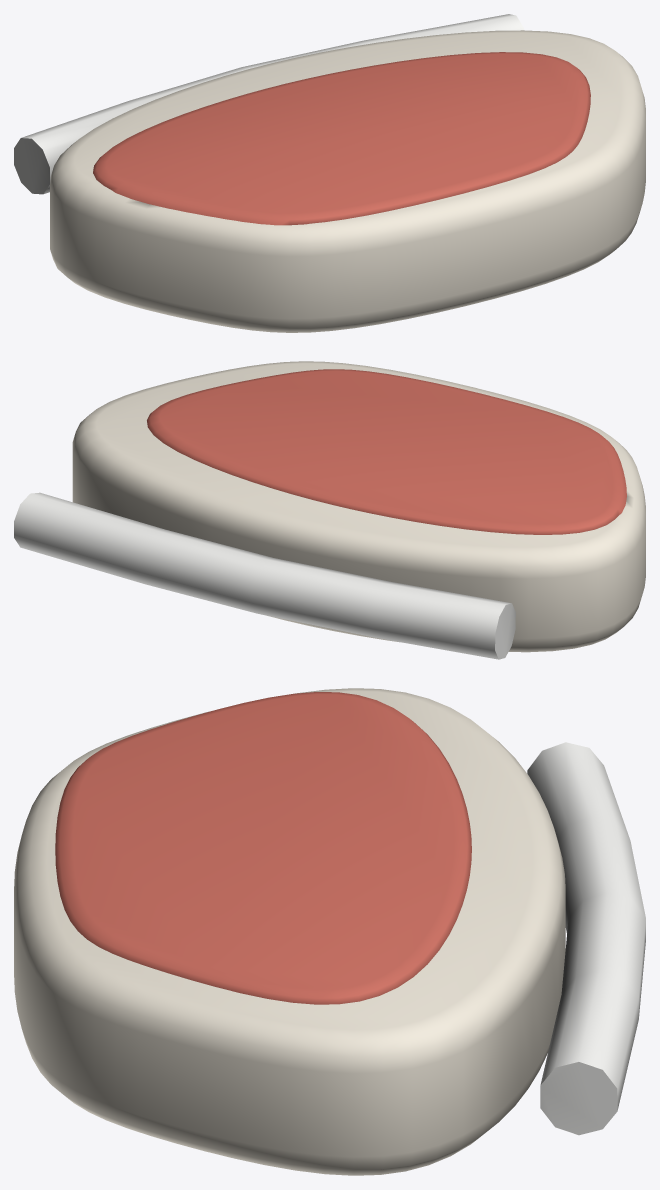
The model's file is food_pork.glb.
The picture shows the model from 3 angles, top to bottom: view 1: azimuth 30°, elevation 25°; view 2: azimuth 150°, elevation 25°; view 3: azimuth 270°, elevation 25°; orthographic projection. The views are drawn at different scales.
Parts seen in each view (by area): view 1: PART; view 2: PART; view 3: PART.
Part boxes in pixels (<box>): PART: <box>14,14,645,332</box>; PART: <box>14,361,645,659</box>; PART: <box>14,688,645,1175</box>.
Bounding box in the file's own units: 0.1321 × 0.0255 × 0.0962.
